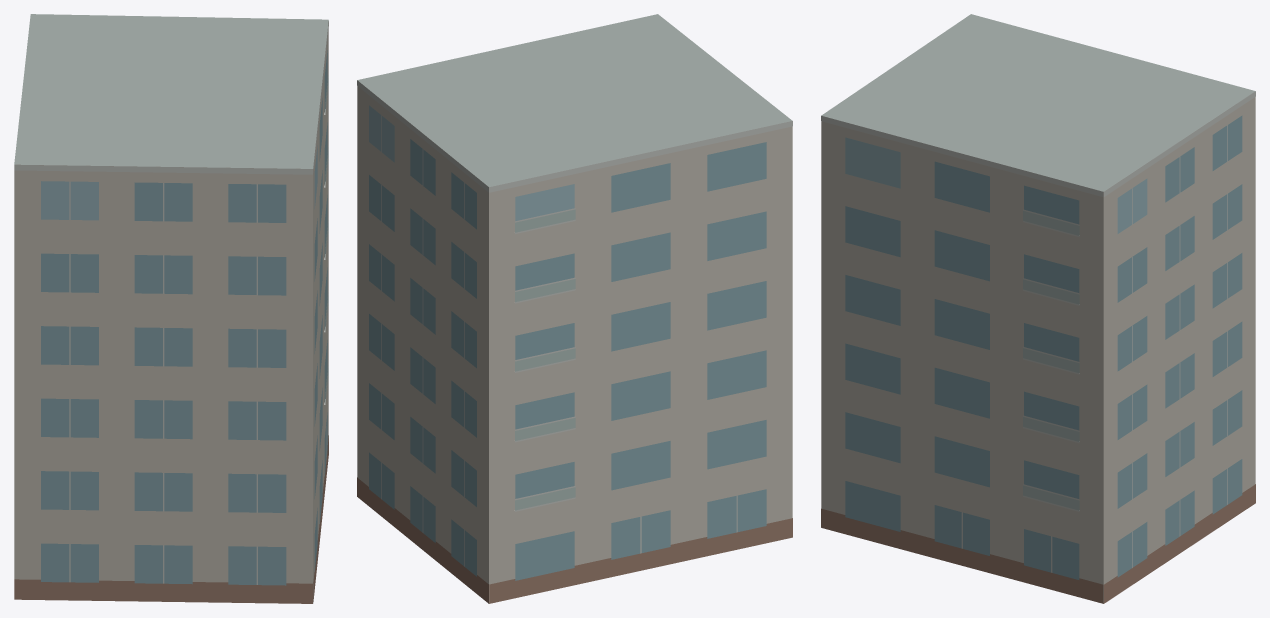
File: survey-upis-32842376.glb
3 renders of one model, left to right at view 1: azimuth 30°, elevation 25°; view 2: azimuth 150°, elevation 25°; view 3: azimuth 270°, elevation 25°, orthographic. The views are drawn at different scales.
Parts seen in each view (by area): view 1: survey-upis-32842376.tmp; view 2: survey-upis-32842376.tmp; view 3: survey-upis-32842376.tmp.
Boxes of the visible parts, x1,y1,x2,y2 form: survey-upis-32842376.tmp: [14, 14, 328, 603]; survey-upis-32842376.tmp: [357, 14, 792, 603]; survey-upis-32842376.tmp: [821, 14, 1255, 603].
Bounding box in the file's own units: 16.95 × 18.3 × 17.5.
